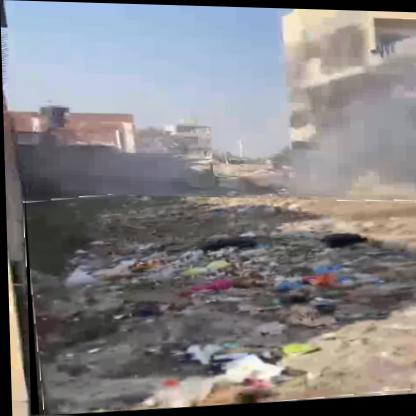Garbage: (24, 192, 416, 416)
